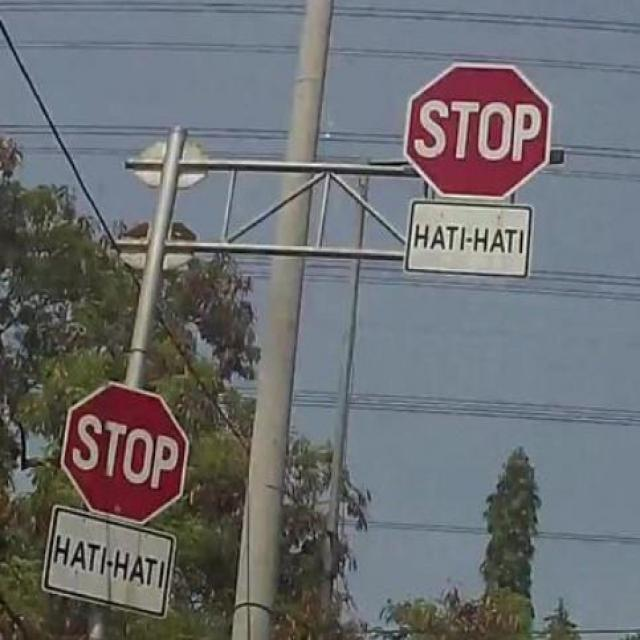traffic sign: (411, 64, 548, 199), (61, 383, 188, 527)
